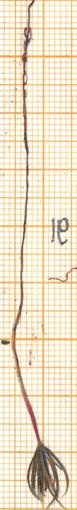flower: (17, 439, 76, 510)
root: (6, 0, 36, 337)
stem: (6, 339, 50, 447)
